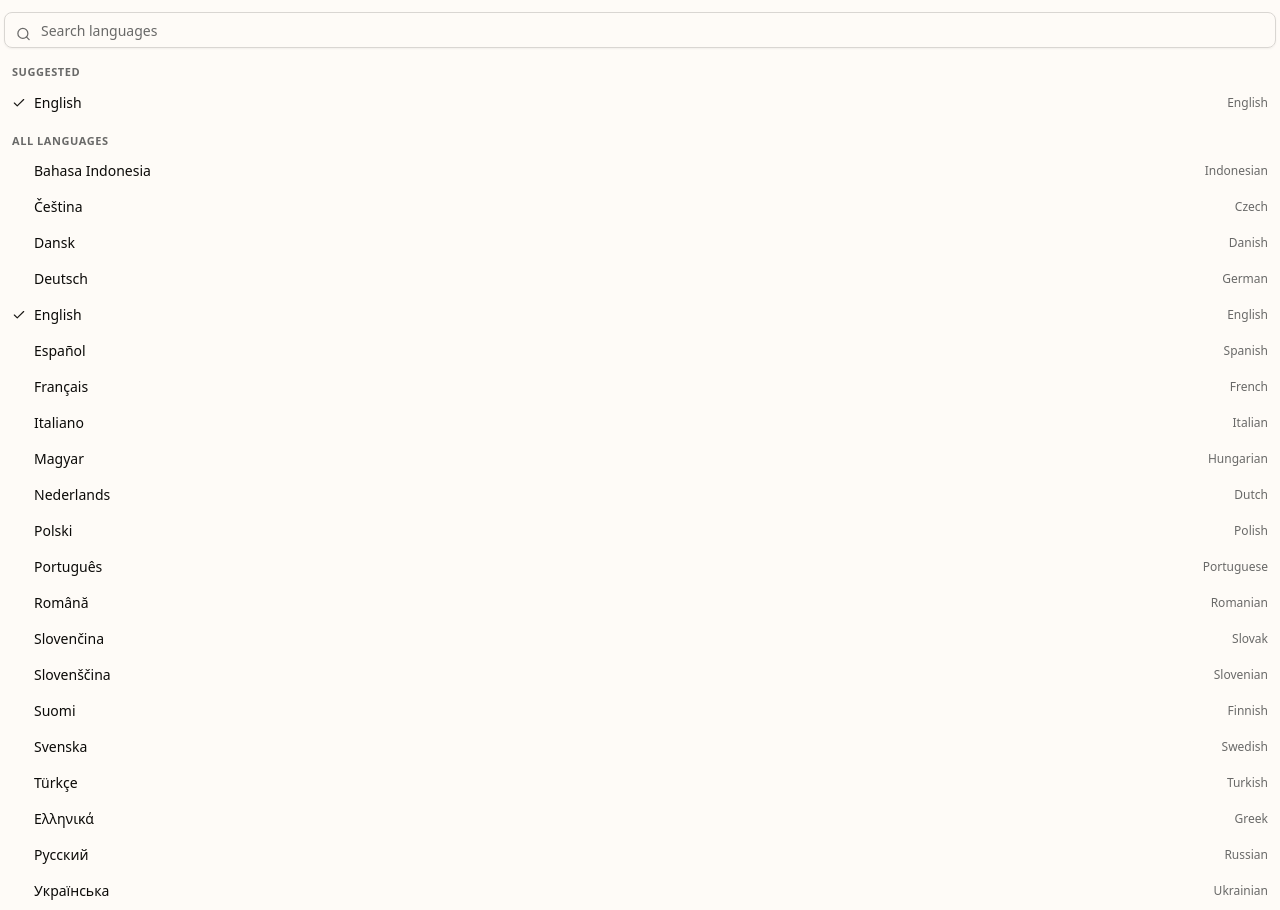
it: LanguagePicker › reports an empty search instead of rendering an empty list
This screenshot has width=1280, height=910.
Type "klingon" into the search field with placeholder "Search languages". click: (640,30)
box: [4,12,1276,48]
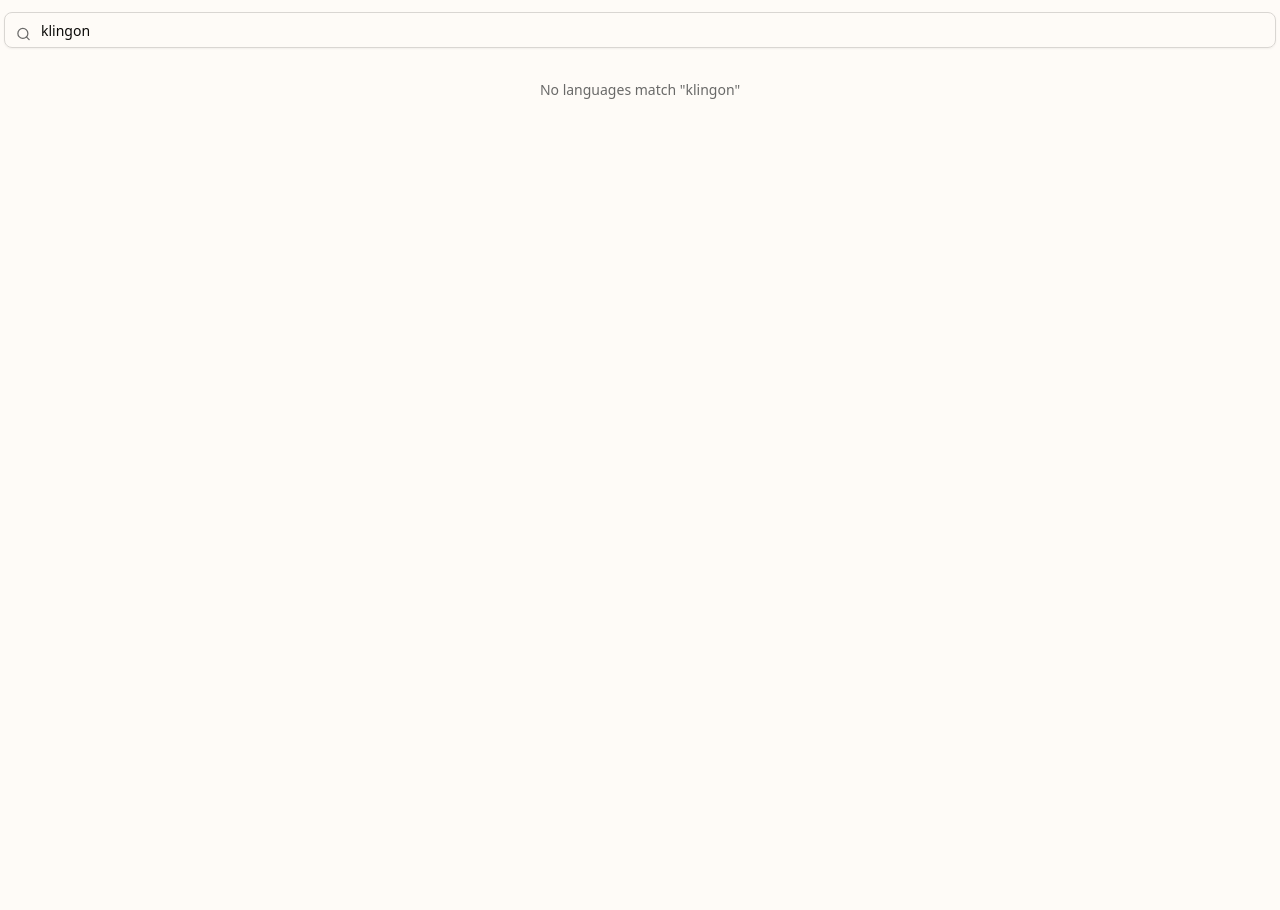
Result: no buttons are shown
Result: the text "No languages match \"klingon\"" is shown at [540,80,740,99]
